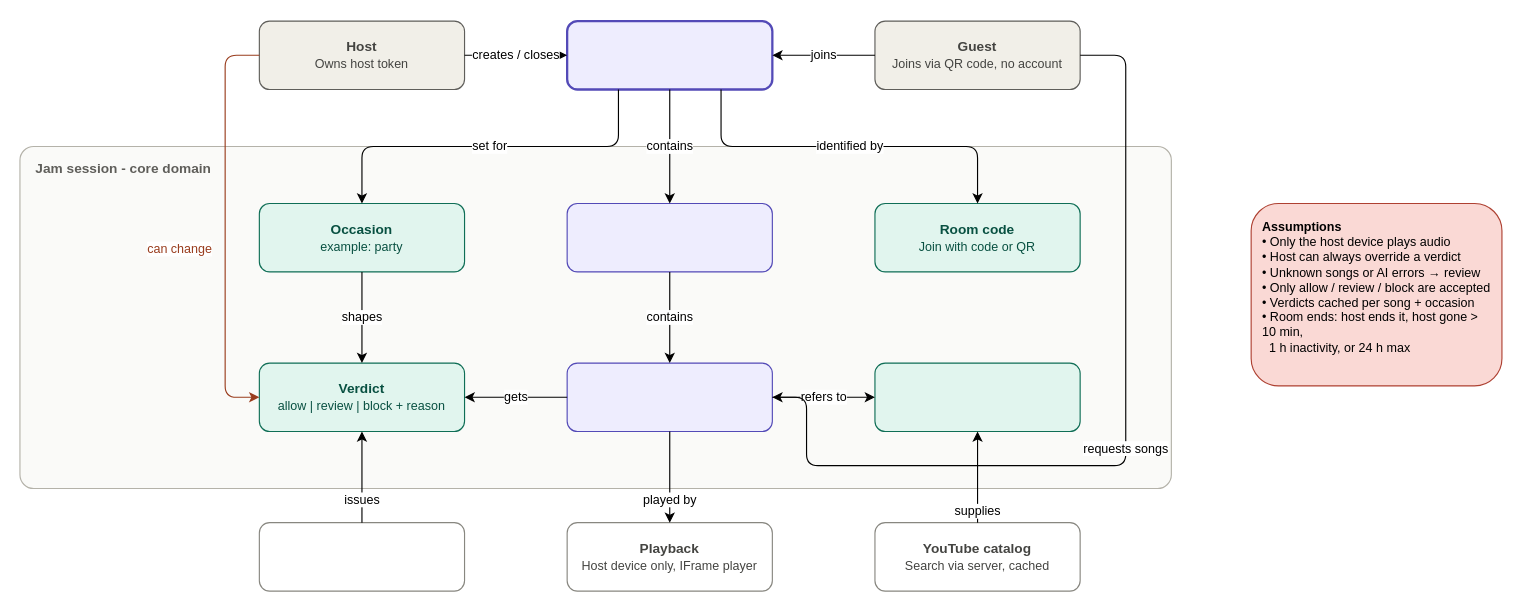
This 1522x611 diagram has some shape labels left out. Here are the shapes that lost their labels. From the top down, the centre of each, then its label:
point 669,54: Room
point 669,237: Queue Shared, works with different modes
point 669,396: Song request Added by a guest
point 977,396: Song YouTube video
point 361,556: AI song filter LLM classifier
